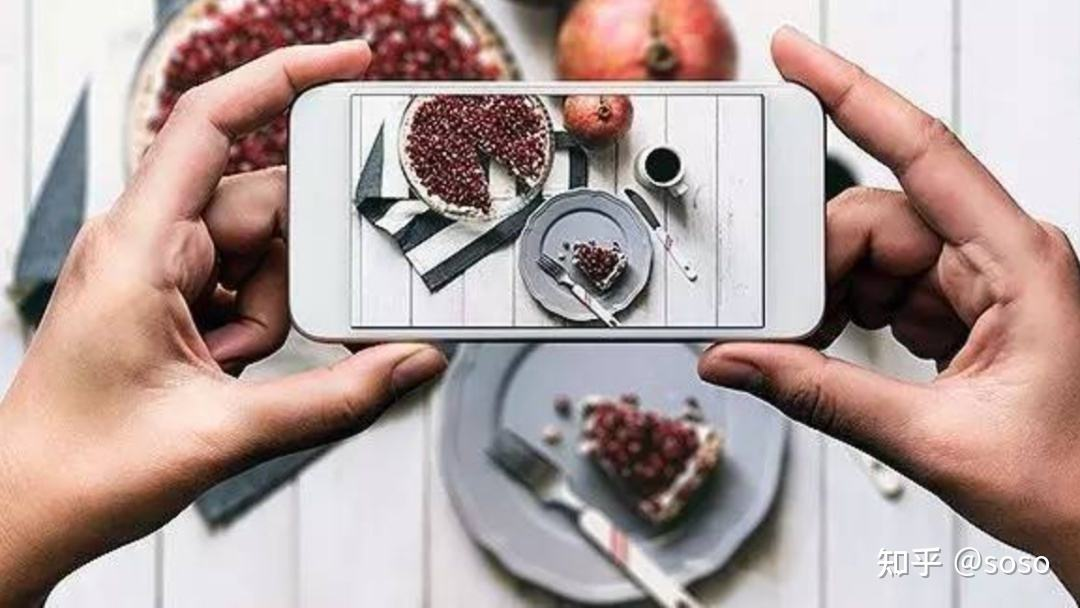taking photos: (11, 21, 1071, 557)
